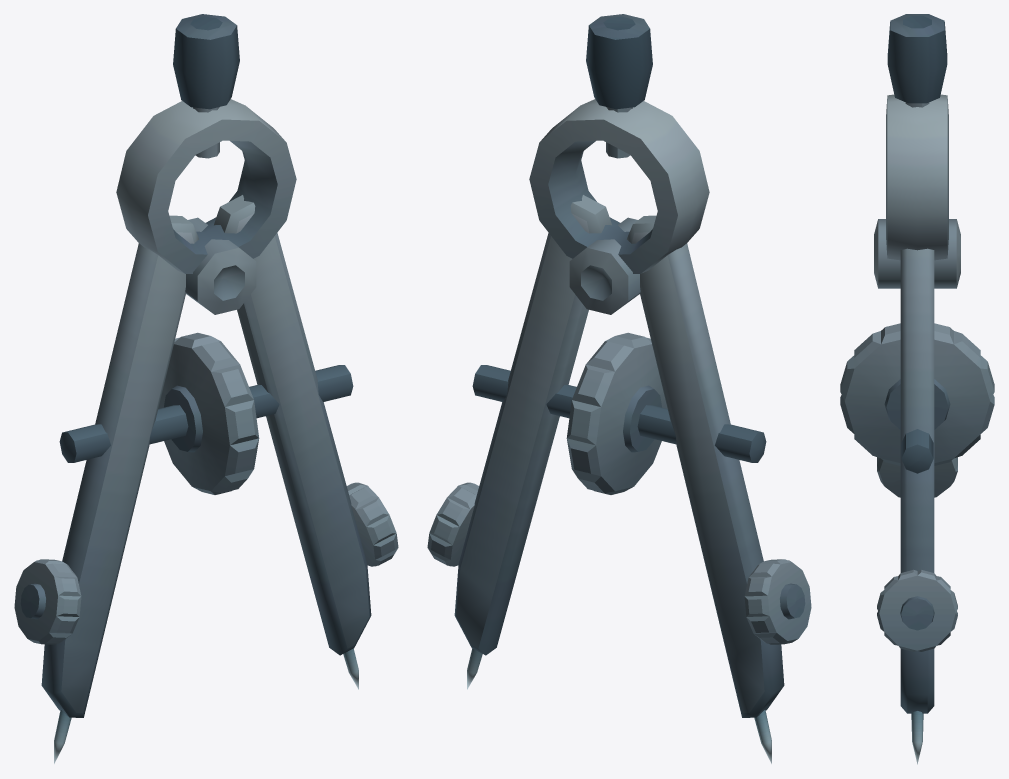
File: drafting_compass.gltf
The picture shows the model from 3 angles, left to right: view 1: azimuth 30°, elevation 25°; view 2: azimuth 150°, elevation 25°; view 3: azimuth 270°, elevation 25°; orthographic projection. The views are drawn at different scales.
Parts seen in each view (by area): view 1: drafting_compass, drafting_compass_legRight, drafting_compass_legLeft, drafting_compass_wheel; view 2: drafting_compass, drafting_compass_legRight, drafting_compass_legLeft, drafting_compass_wheel; view 3: drafting_compass, drafting_compass_legLeft, drafting_compass_wheel, drafting_compass_legRight.
Part boxes in pixels (<box>): drafting_compass: <box>59,14,353,462</box>; drafting_compass_legRight: <box>14,215,198,763</box>; drafting_compass_legLeft: <box>214,195,398,689</box>; drafting_compass_wheel: <box>158,332,259,494</box>; drafting_compass: <box>472,14,766,462</box>; drafting_compass_legRight: <box>627,215,811,763</box>; drafting_compass_legLeft: <box>427,195,611,689</box>; drafting_compass_wheel: <box>566,332,667,494</box>; drafting_compass: <box>874,14,960,473</box>; drafting_compass_legLeft: <box>877,248,957,764</box>; drafting_compass_wheel: <box>840,323,994,465</box>; drafting_compass_legRight: <box>877,457,957,497</box>.
Bounding box in the file's own units: 0.4577 × 0.8542 × 0.1776.
Materials: 1 (1 with a texture image).
